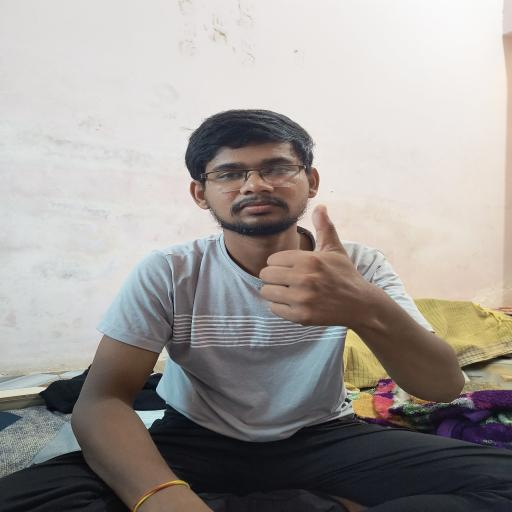Good Morning: (237, 194, 397, 348)
